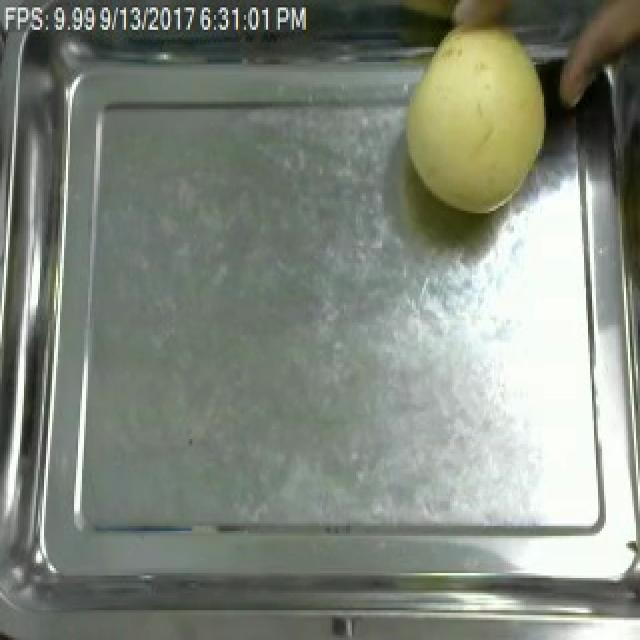Fruit: (392, 12, 558, 224)
